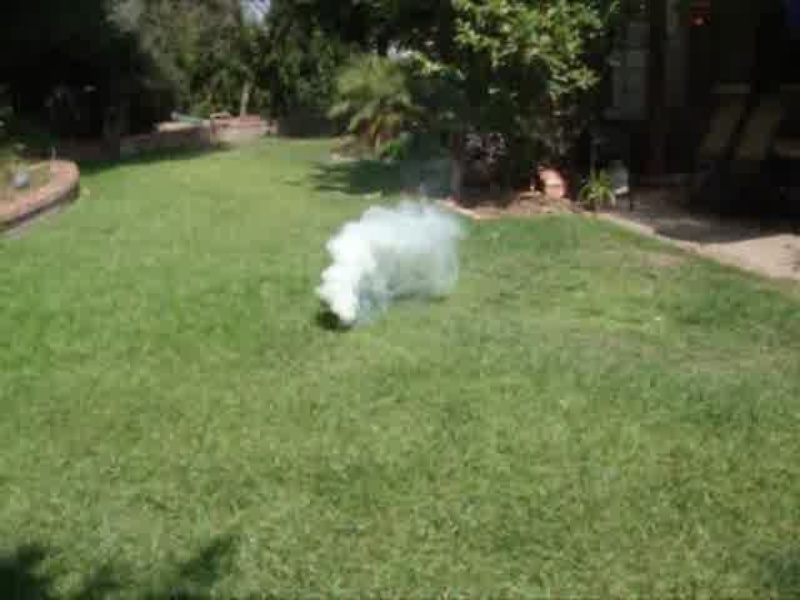smoke: (329, 210, 456, 313)
